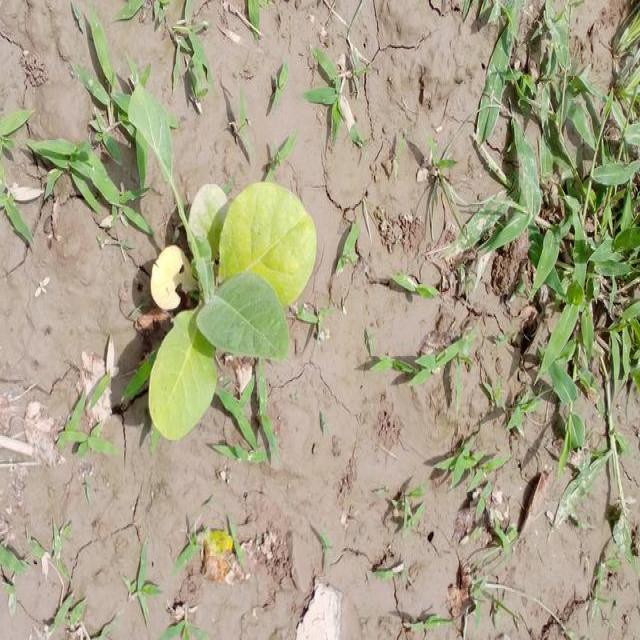crop: (122, 88, 318, 446)
